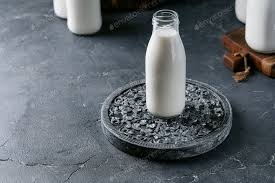milk: (136, 5, 189, 114)
